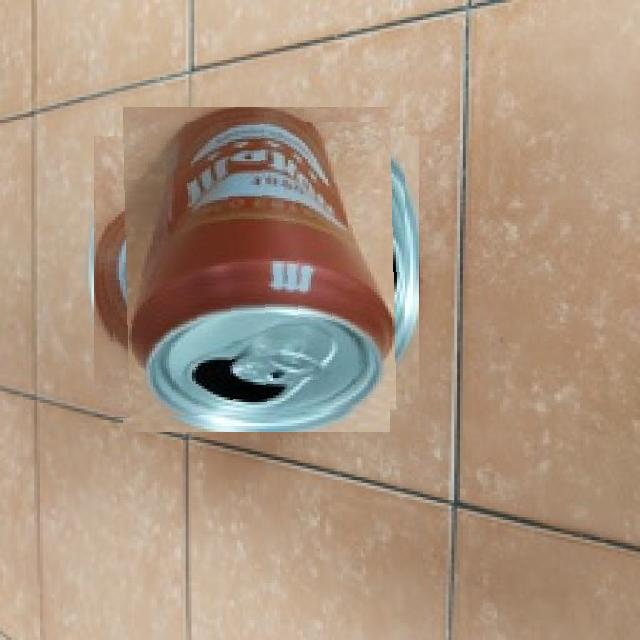recyclable: (108, 122, 405, 418)
